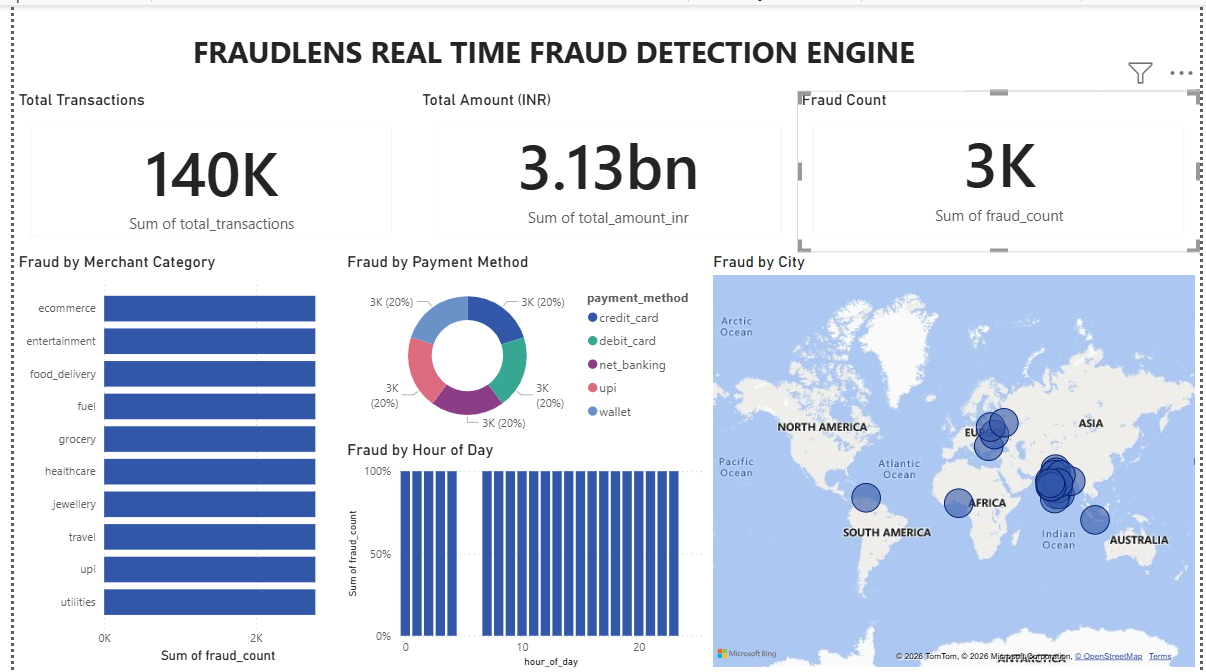

The page's visual inventory and layout, read from the dashboard file:
{"tool":"powerbi","page":{"name":"Page 1","canvas":[1280,720],"ordinal":0},"visuals":[{"type":"cardVisual","title":"Total Transactions","fields":{"Data":["Sum(summary.total_transactions)"]},"box":[0,92.5,425,175],"z":0},{"type":"cardVisual","title":"Fraud Count","fields":{"Data":["Sum(summary.fraud_count)"]},"box":[845,92.5,435,175],"z":1000},{"type":"cardVisual","title":"Total Amount (INR)","fields":{"Data":["Sum(summary.total_amount_inr)"]},"box":[435,92.5,410,175],"z":3000},{"type":"clusteredBarChart","title":"Fraud by Merchant Category","fields":{"Category":["by-category.merchant_category"],"Y":["Sum(summary.fraud_count)"]},"box":[0,267.5,355,447.5],"z":4000},{"type":"hundredPercentStackedColumnChart","title":"Fraud by Hour of Day","fields":{"Y":["Sum(summary.fraud_count)"],"Category":["by-hour.hour_of_day"]},"box":[355,470,395,250],"z":5000},{"type":"donutChart","title":"Fraud by Payment Method","fields":{"Category":["by-payment-method.payment_method"],"Y":["Sum(summary.fraud_count)"]},"box":[355,267.5,395,202.5],"z":6000},{"type":"map","title":"Fraud by City","fields":{"Category":["by-city.city"],"Size":["Sum(summary.fraud_count)"]},"box":[750,267.5,530,452.5],"z":7000},{"type":"textbox","box":[187.5,22.5,840,70],"z":8001}]}

Visuals, with their boxes in screenshot pixels (x1, y1, x2, y2), scaled from the page's 1280x720 canvas onto the 1206x672 screenshot:
"Total Transactions" cardVisual: 0:86:400:250
"Fraud Count" cardVisual: 796:86:1205:250
"Total Amount (INR)" cardVisual: 410:86:796:250
"Fraud by Merchant Category" clusteredBarChart: 0:250:334:667
"Fraud by Hour of Day" hundredPercentStackedColumnChart: 334:439:707:671
"Fraud by Payment Method" donutChart: 334:250:707:439
"Fraud by City" map: 707:250:1205:671
textbox: 177:21:968:86
